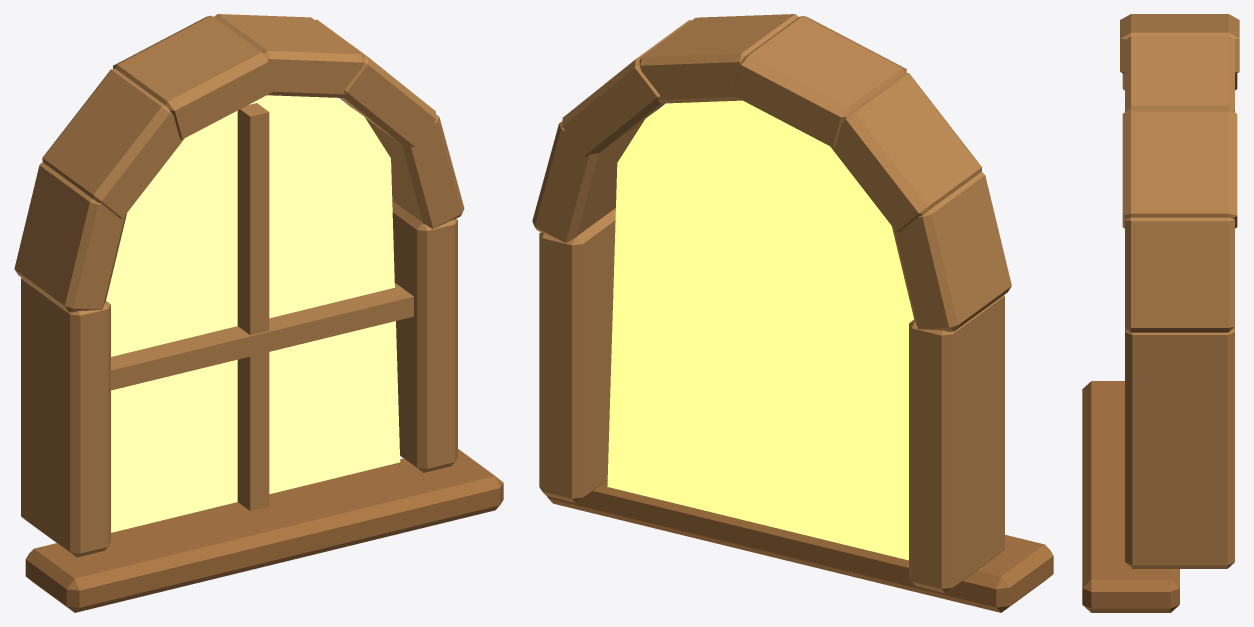
Rendered from mod_window_insert_arched.glb.
3 renders of one model, left to right at view 1: azimuth 30°, elevation 25°; view 2: azimuth 150°, elevation 25°; view 3: azimuth 270°, elevation 25°, orthographic. The views are drawn at different scales.
Visible parts, largest first — view 1: mod_window_insert_arched; view 2: mod_window_insert_arched; view 3: mod_window_insert_arched.
Boxes of the visible parts, left/top/right/bottom form: mod_window_insert_arched: left=14, top=14, right=503, bottom=612; mod_window_insert_arched: left=532, top=14, right=1053, bottom=612; mod_window_insert_arched: left=1082, top=14, right=1239, bottom=612.
Bounding box in the file's own units: 0.8 × 0.8658 × 0.258.
